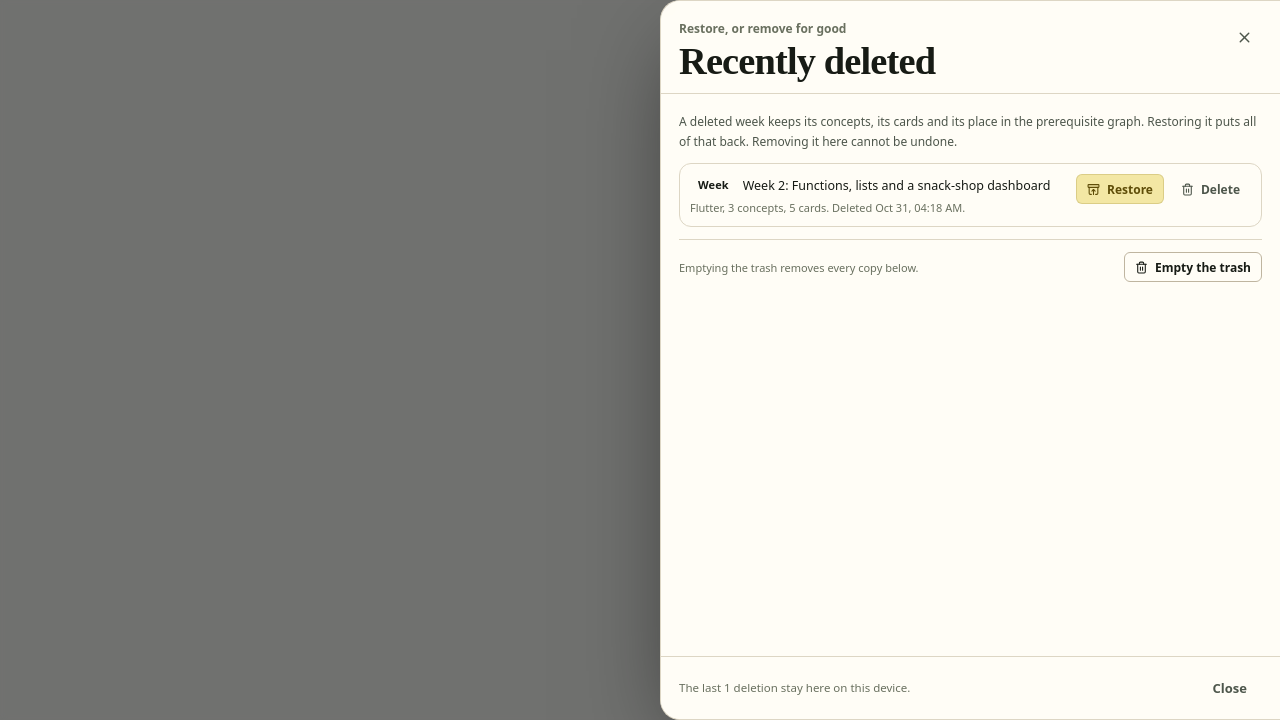
Test case: recently deleted › restores a deleted week with its cards
Expected: the text "Week" is shown, left=698, top=177, right=729, bottom=192
Click the button "Restore". click: [1120, 189]
box: left=1076, top=174, right=1164, bottom=204
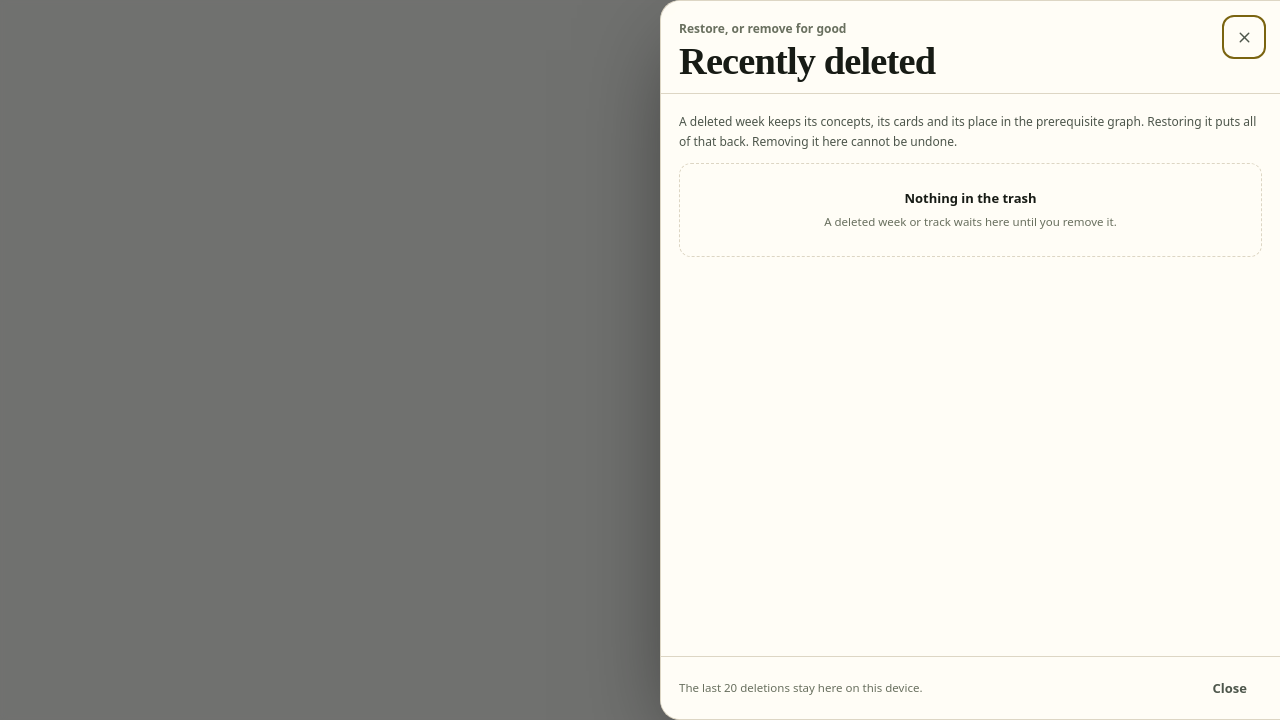
Now the text "Nothing in the trash" is shown, box left=904, top=189, right=1037, bottom=207
